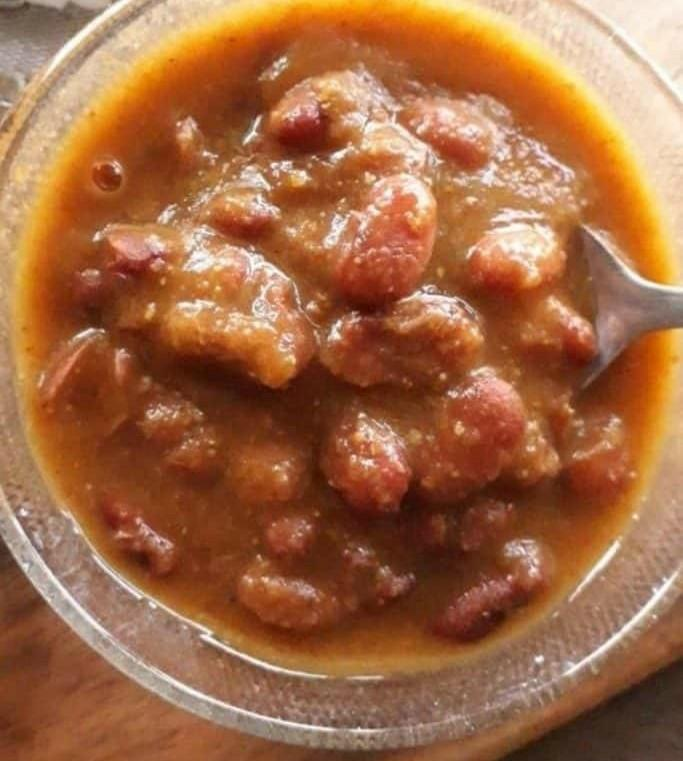RajmaCurry: (31, 0, 683, 660)
